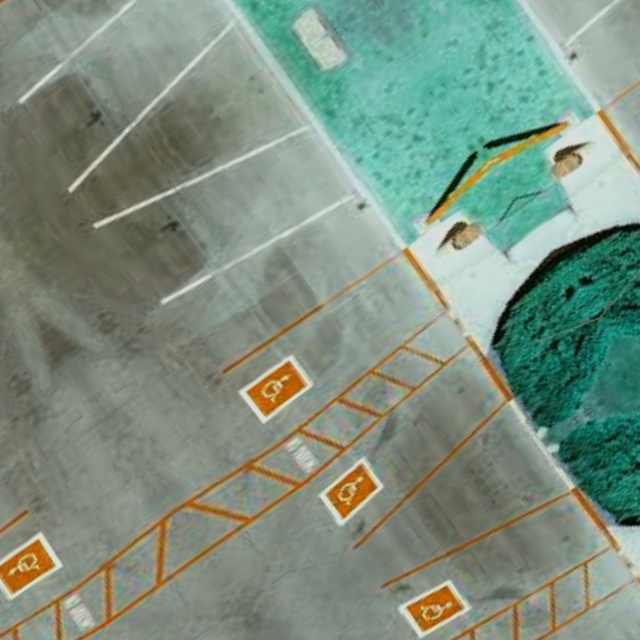ISA: (0, 547, 43, 587), (255, 366, 299, 405), (331, 470, 373, 509), (415, 589, 457, 628)
